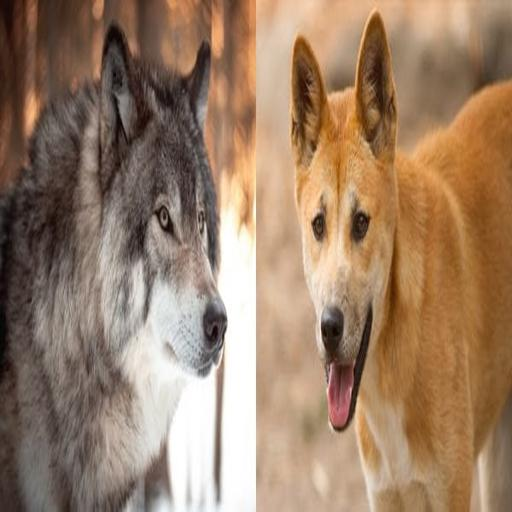Wolf: (0, 27, 235, 512)
